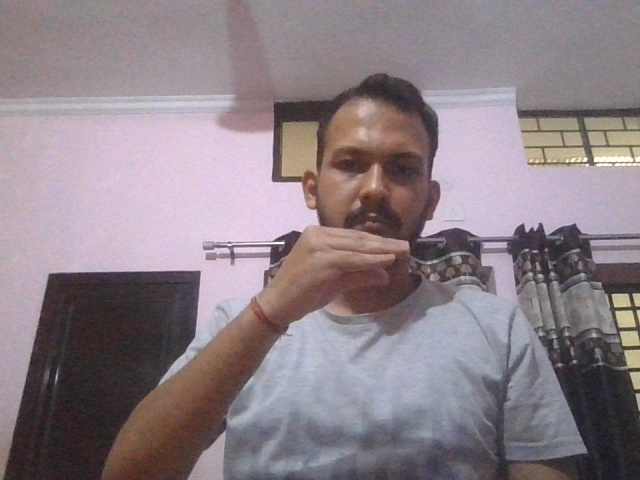no: (259, 225, 411, 322)
